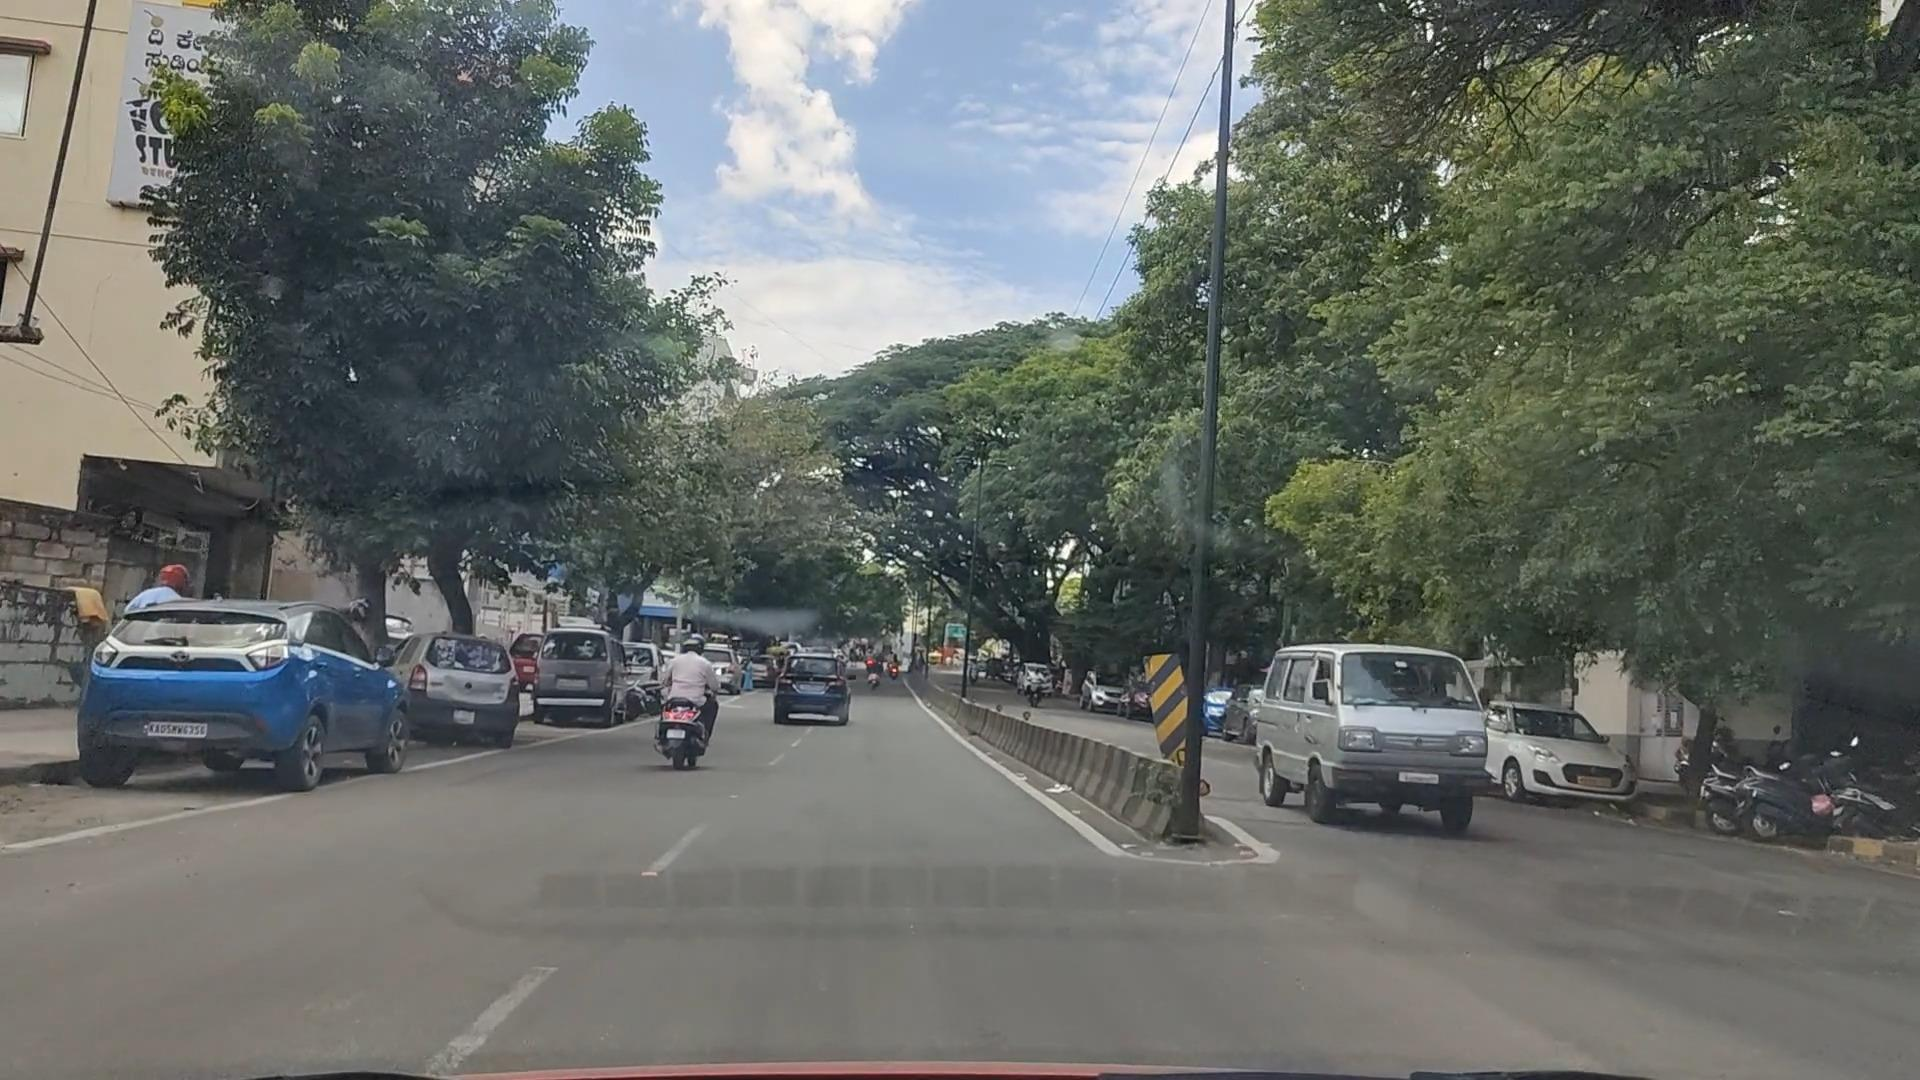LMV: (108, 608, 422, 808), (647, 638, 761, 782)
